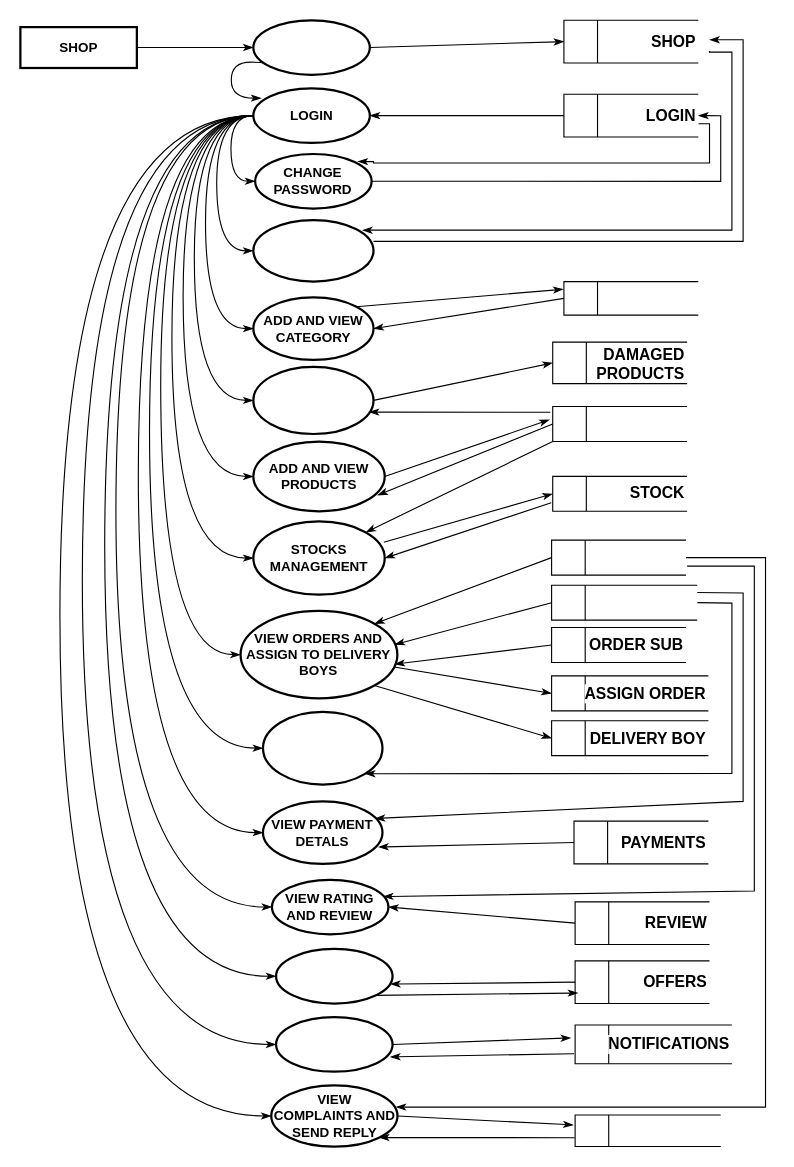
The diagram is 794 pixels wide and 1167 high, and some of its shapes have lost their labels. Here are the shapes that lost their labels. From the top down, the centre of each, then its label:
At pixel 311 47: "REGISTRATION".
At pixel 313 250: "VIEW AND EDIT PROFILE".
At pixel 630 297: "CATEGORY".
At pixel 313 400: "VIEW DAMAGED PRODUCTS".
At pixel 619 423: "PRODUCTS".
At pixel 618 557: "CUSTOMER".
At pixel 623 602: "ORDER MAIN".
At pixel 322 747: "VIEW DELIVERY STATUS".
At pixel 333 975: "MANAGE OFFERS".
At pixel 333 1044: "MANAGE NOTIFICATIONS".
At pixel 647 1130: "COMPLAINTS".
